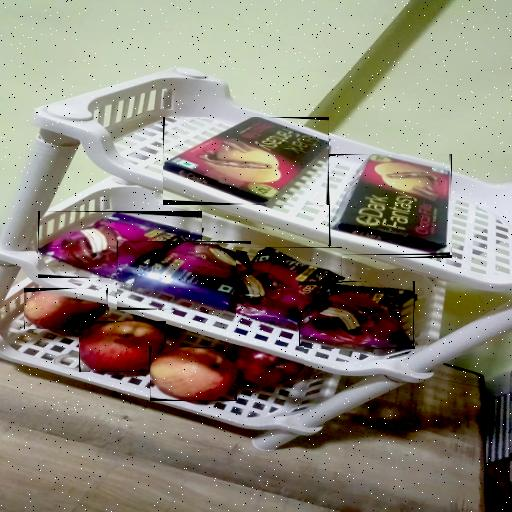Choco Fills: (163, 117, 329, 204), (330, 154, 450, 254)
Choco Pie: (38, 213, 202, 278), (117, 242, 251, 309), (236, 248, 342, 327), (300, 283, 414, 347), (151, 347, 236, 401), (80, 321, 165, 372), (24, 290, 107, 329), (227, 347, 304, 386)
